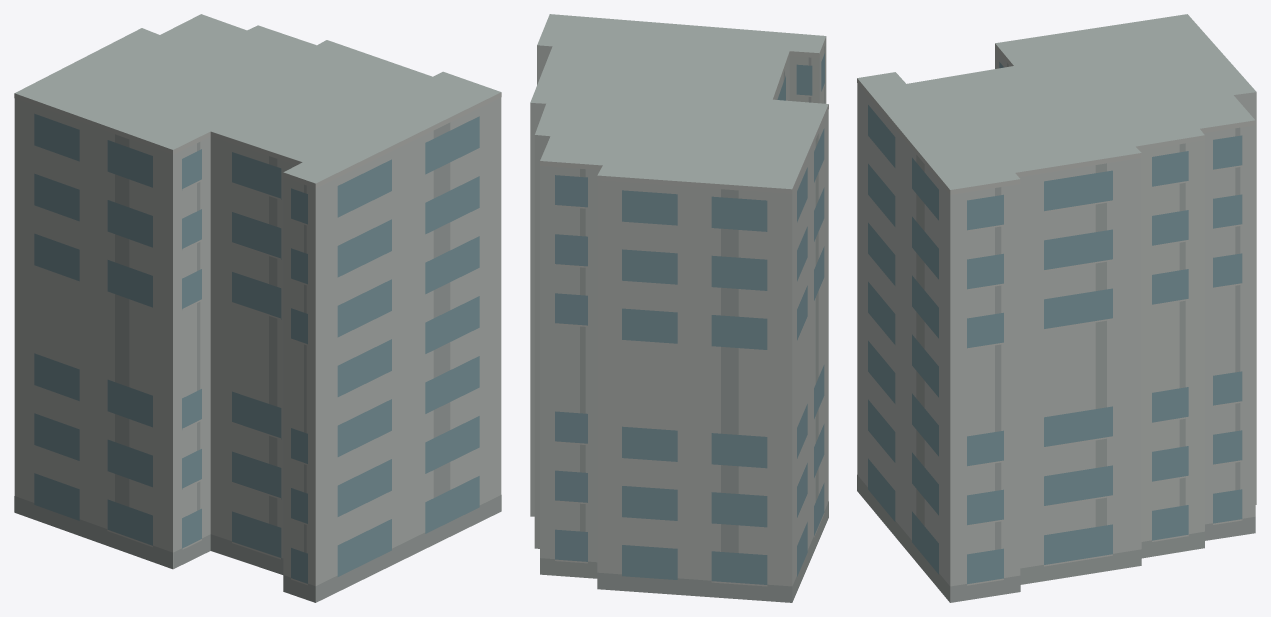
Rendered from survey-upis-32706703.glb.
3 views of the same model, side by side, from view 1: azimuth 30°, elevation 25°; view 2: azimuth 150°, elevation 25°; view 3: azimuth 270°, elevation 25° (orthographic).
Parts seen in each view (by area): view 1: survey-upis-32706703.tmp; view 2: survey-upis-32706703.tmp; view 3: survey-upis-32706703.tmp.
Part boxes in pixels (x1,y1,x2,y2): survey-upis-32706703.tmp: (14,14,501,602); survey-upis-32706703.tmp: (530,14,828,602); survey-upis-32706703.tmp: (857,14,1256,602).
Bounding box in the file's own units: 18.48 × 20.2 × 17.73.
